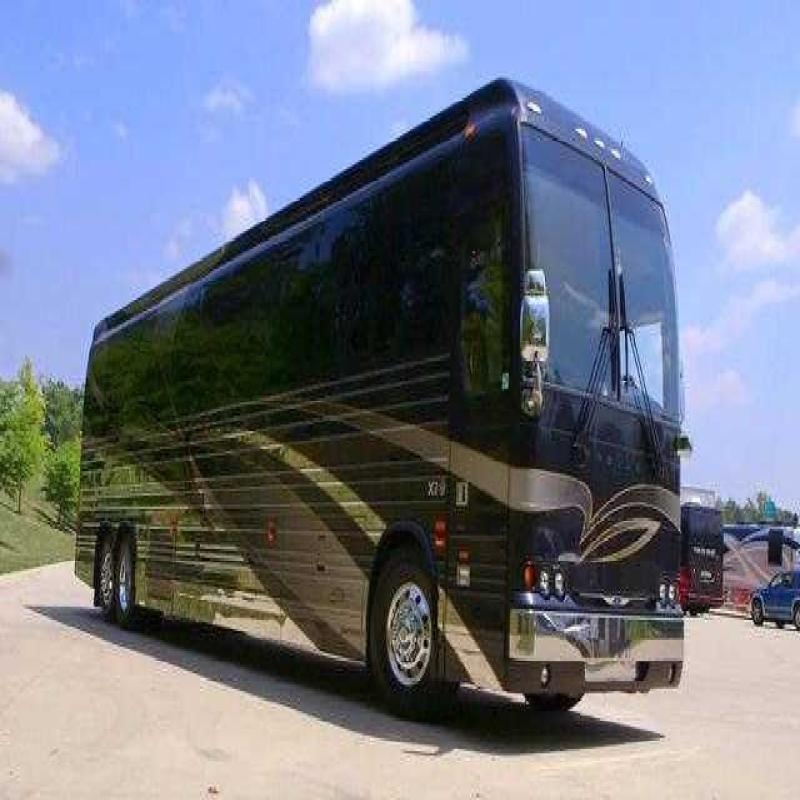bus: (64, 88, 710, 728)
